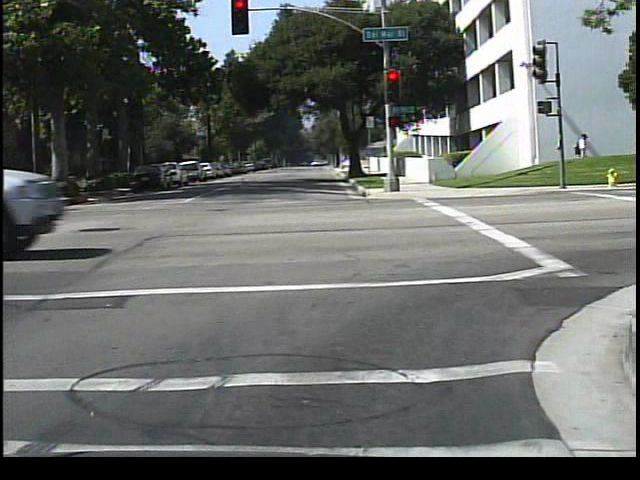person: (570, 126, 594, 181)
